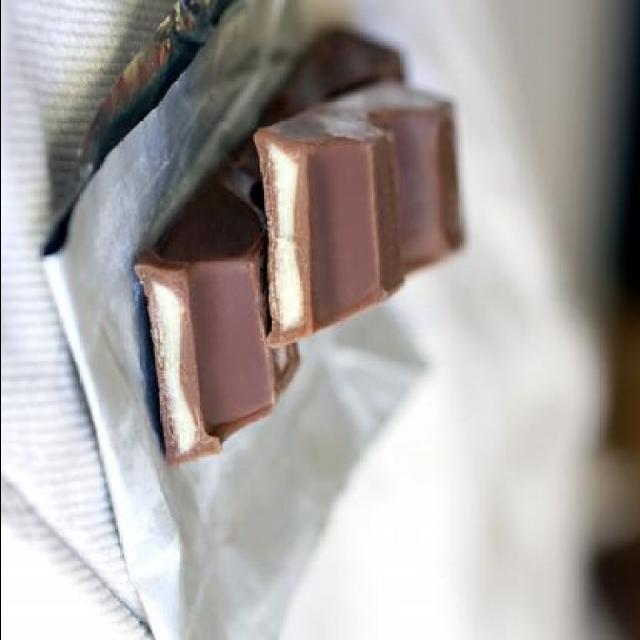Chocolate bar packaged: (128, 32, 406, 470), (254, 79, 462, 347)
